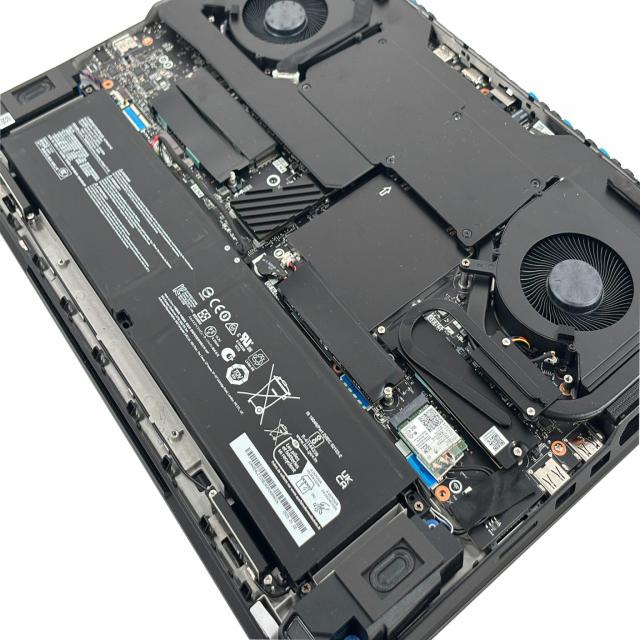ssd: (1, 92, 416, 580), (282, 258, 403, 400)
wifi: (391, 394, 467, 486)
